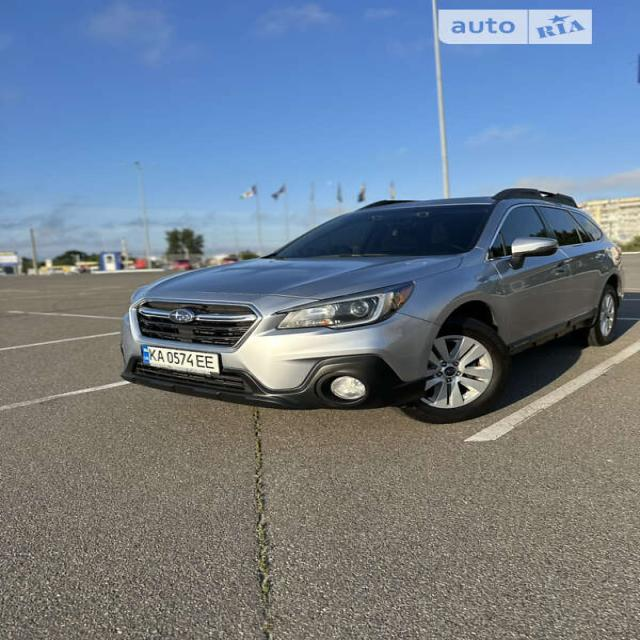plate: (135, 333, 224, 383)
